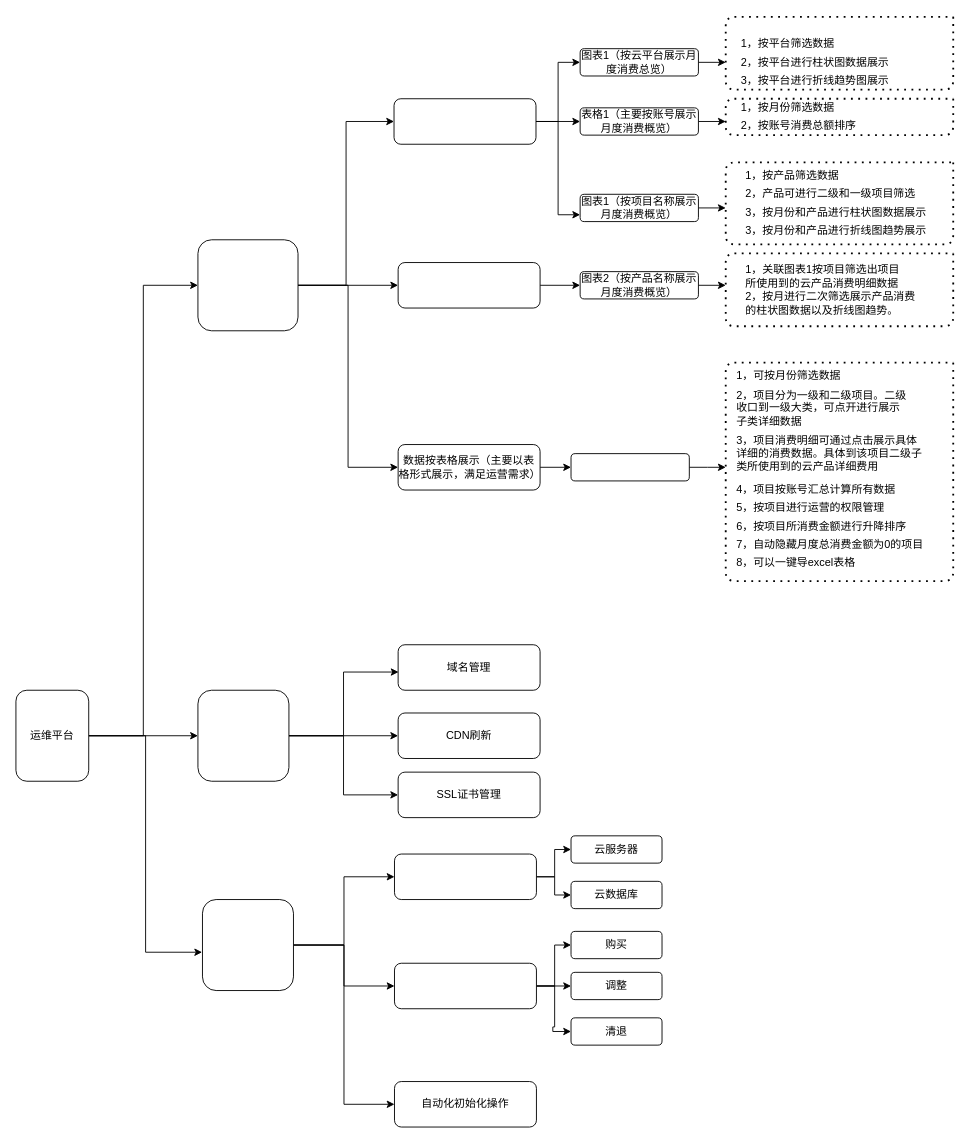
This 971x1143 diagram has some shape labels left out. Each missing label, with the centre of its shape:
CMDB: point 247,945
多云平台资产自动化探测扫描发现和入库: point 465,876
数据展示中心: point 247,285
数据按平台展示（主要对IT组内，满足组内需求）: point 464,121
数据按项目展示并且关联产品明细: point 468,285
表格1（主要展示具体消费概览）: point 629,467
资产操作: point 465,985
运维工具: point 243,735
